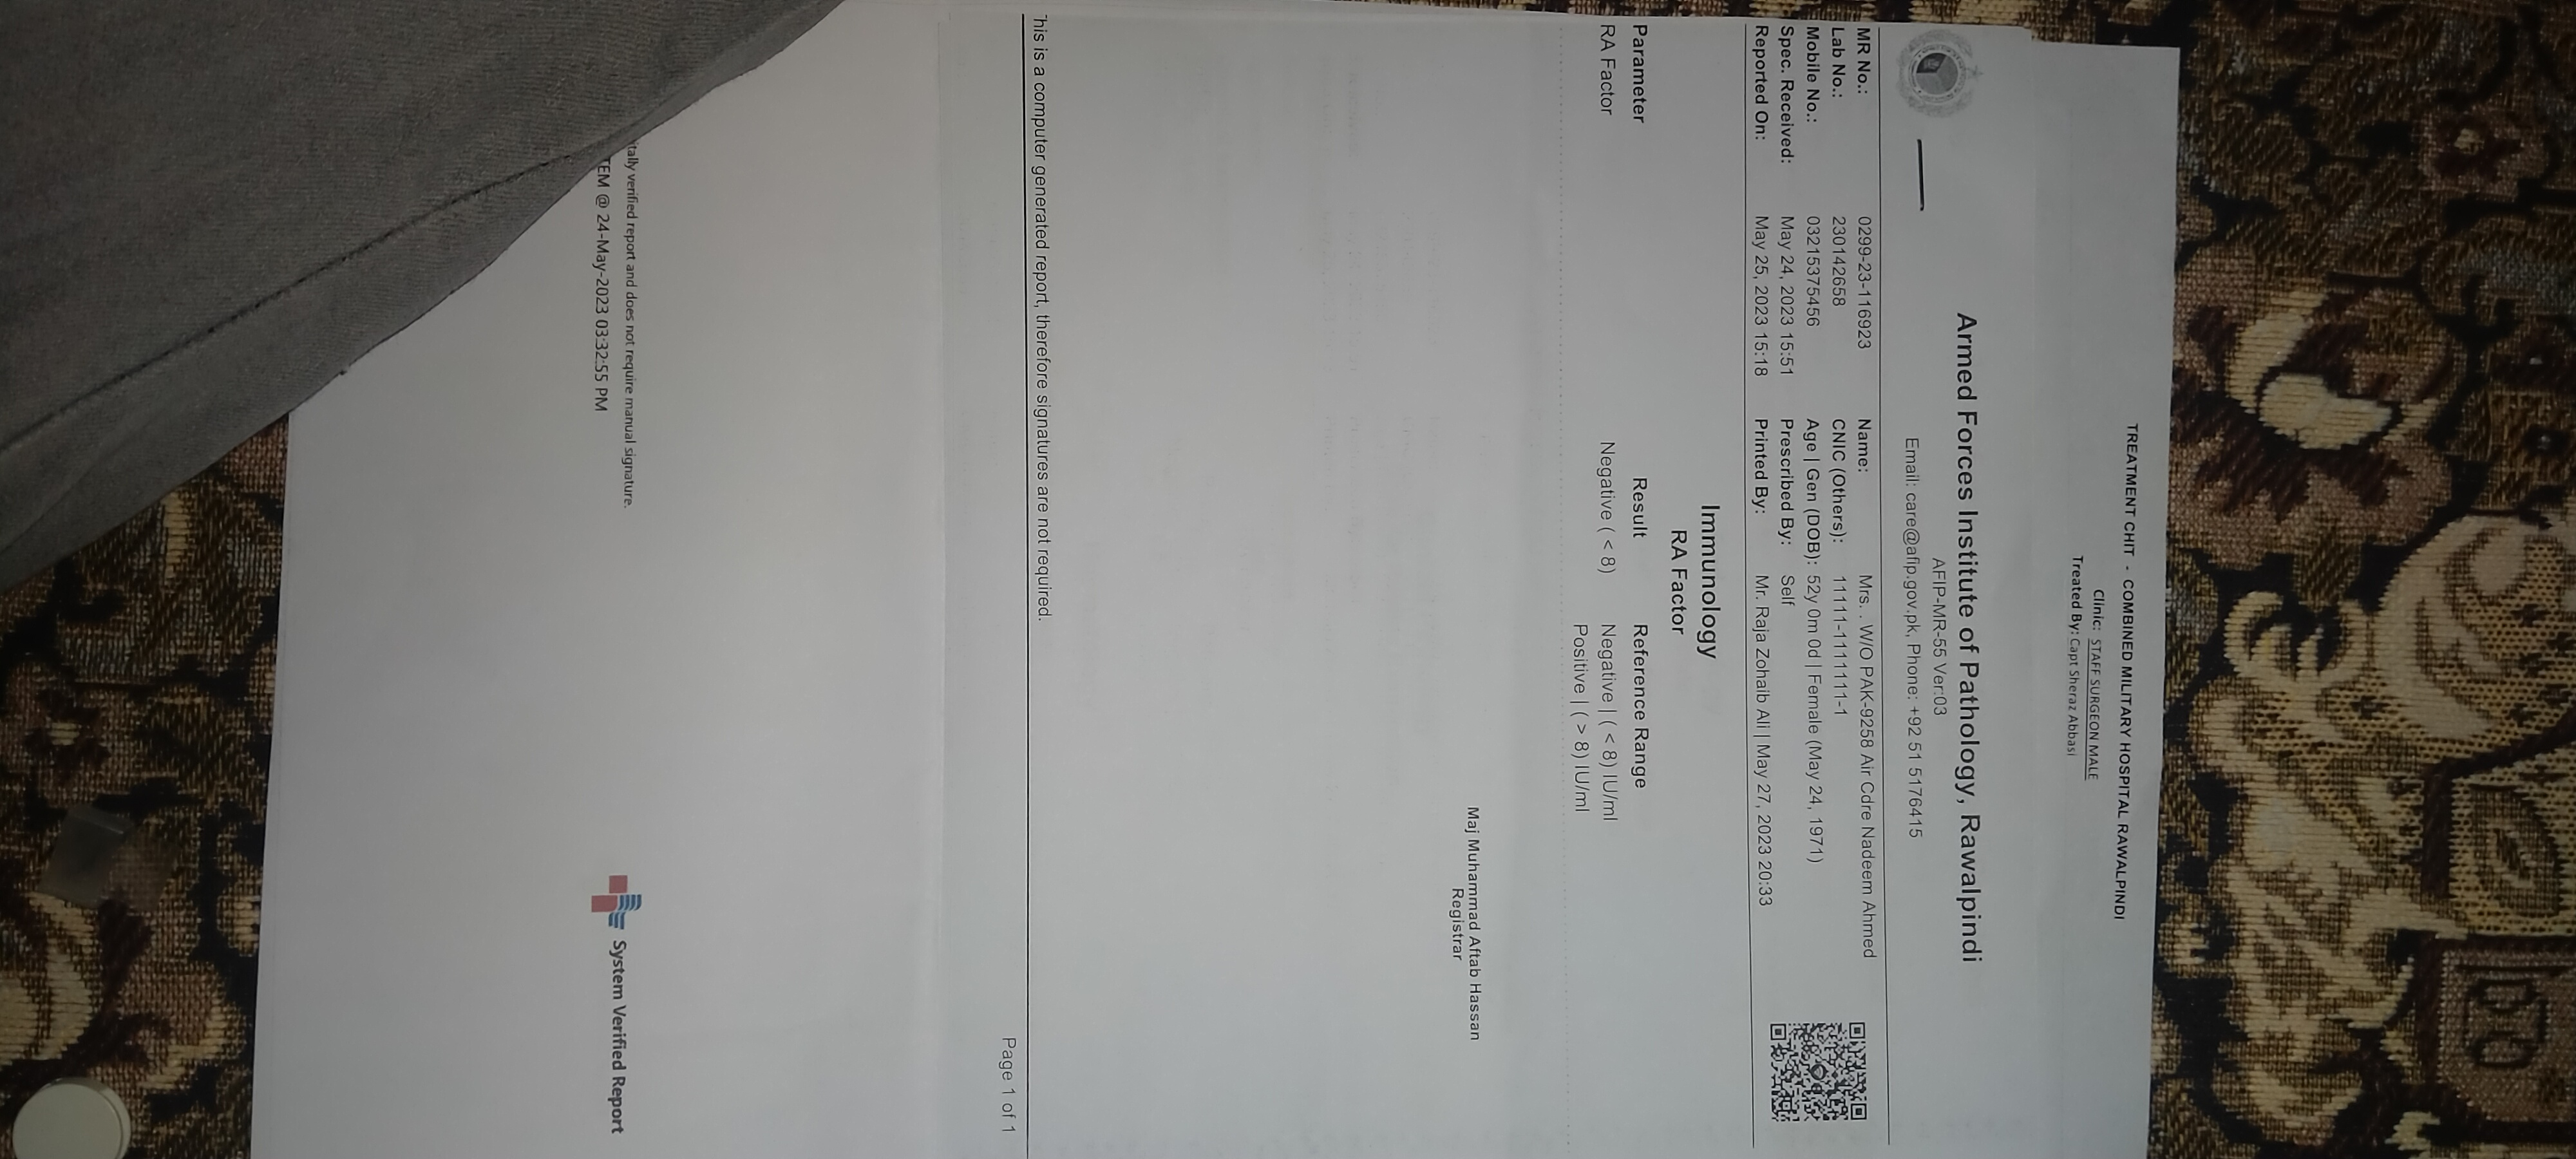report: (1410, 5, 1676, 1159)
